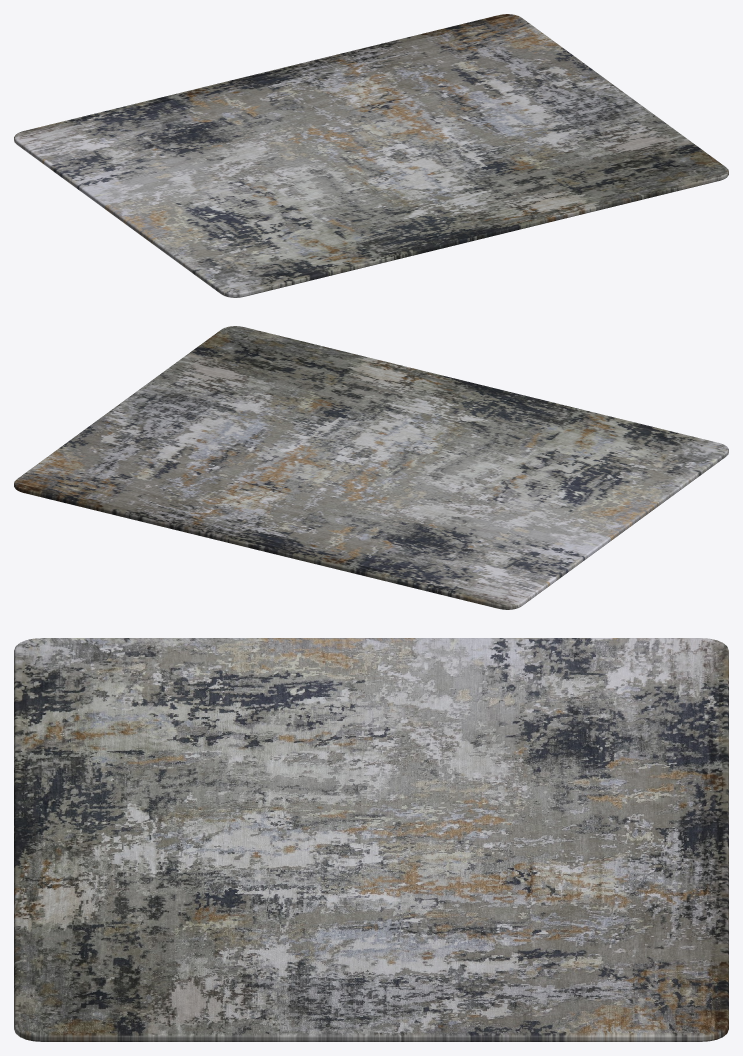
3 views of the same model, one above another, from view 1: azimuth 30°, elevation 25°; view 2: azimuth 150°, elevation 25°; view 3: azimuth 270°, elevation 25° (orthographic). The views are drawn at different scales.
Visible parts, largest first — view 1: Cube; view 2: Cube; view 3: Cube.
Boxes of the visible parts, x1,y1,x2,y2 form: Cube: (14, 14, 728, 297); Cube: (14, 326, 728, 609); Cube: (14, 638, 728, 1041).
Bounding box in the file's own units: 4.56 × 0.04 × 3.46.
Materials: 1 (1 with a texture image).
